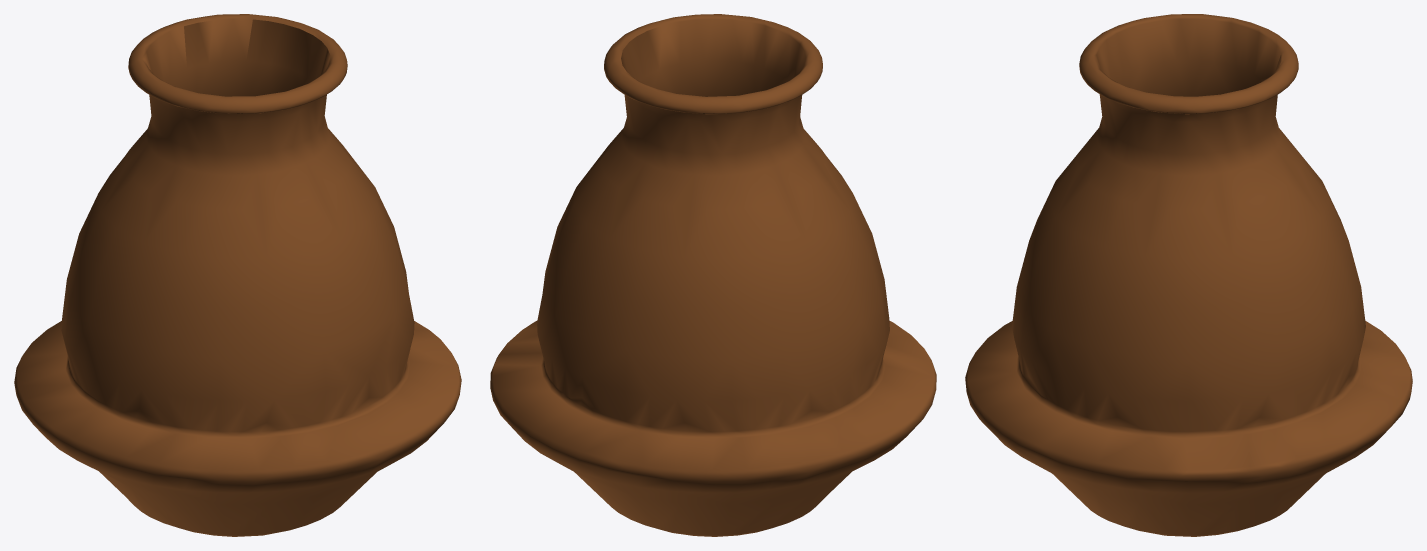
The model's file is Urn_Ori_1128.fbx.
The picture shows the model from 3 angles, left to right: view 1: azimuth 30°, elevation 25°; view 2: azimuth 150°, elevation 25°; view 3: azimuth 270°, elevation 25°; orthographic projection.
Parts seen in each view (by area): view 1: Urn; view 2: Urn; view 3: Urn.
Part boxes in pixels (box(x1,y1,x2,y2)): Urn: box(14, 14, 461, 536); Urn: box(490, 14, 936, 536); Urn: box(965, 14, 1412, 536).
Bounding box in the file's own units: 703 × 781 × 703.
